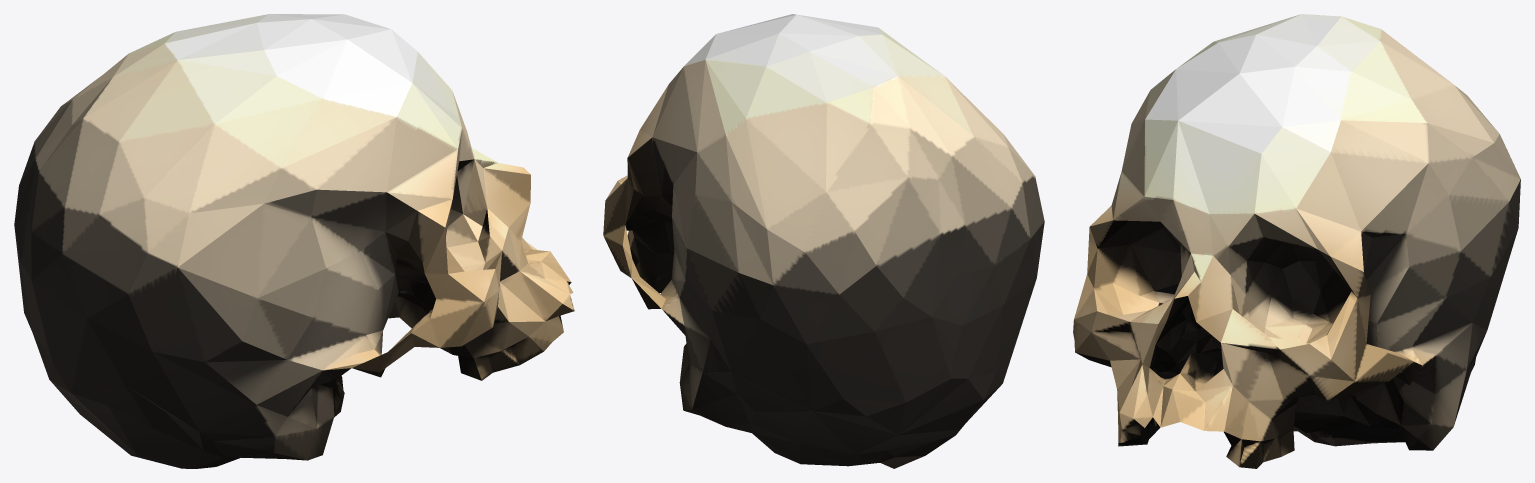
File: vanitas.gltf
3 renders of one model, left to right at view 1: azimuth 30°, elevation 25°; view 2: azimuth 150°, elevation 25°; view 3: azimuth 270°, elevation 25°, orthographic. The views are drawn at different scales.
Parts seen in each view (by area): view 1: cranio; view 2: cranio; view 3: cranio.
Part boxes in pixels (left/top/right/bottom): cranio: left=14, top=14, right=574, bottom=468; cranio: left=603, top=14, right=1044, bottom=468; cranio: left=1073, top=14, right=1520, bottom=468.
Bounding box in the file's own units: 5.96 × 5.06 × 4.95.
1 material, 1 textured.
